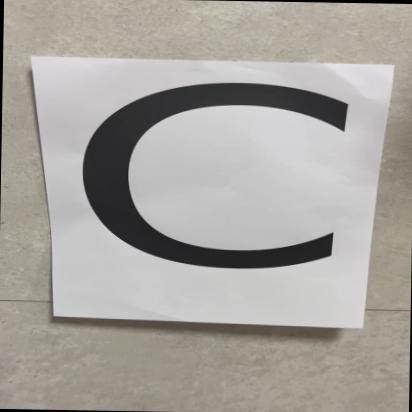seat: (43, 64, 383, 329)
